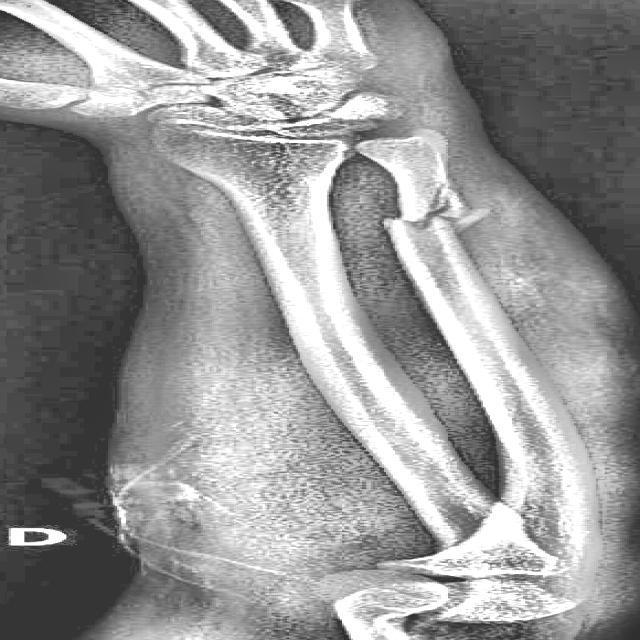messed_up_angle: (388, 184, 486, 231)
